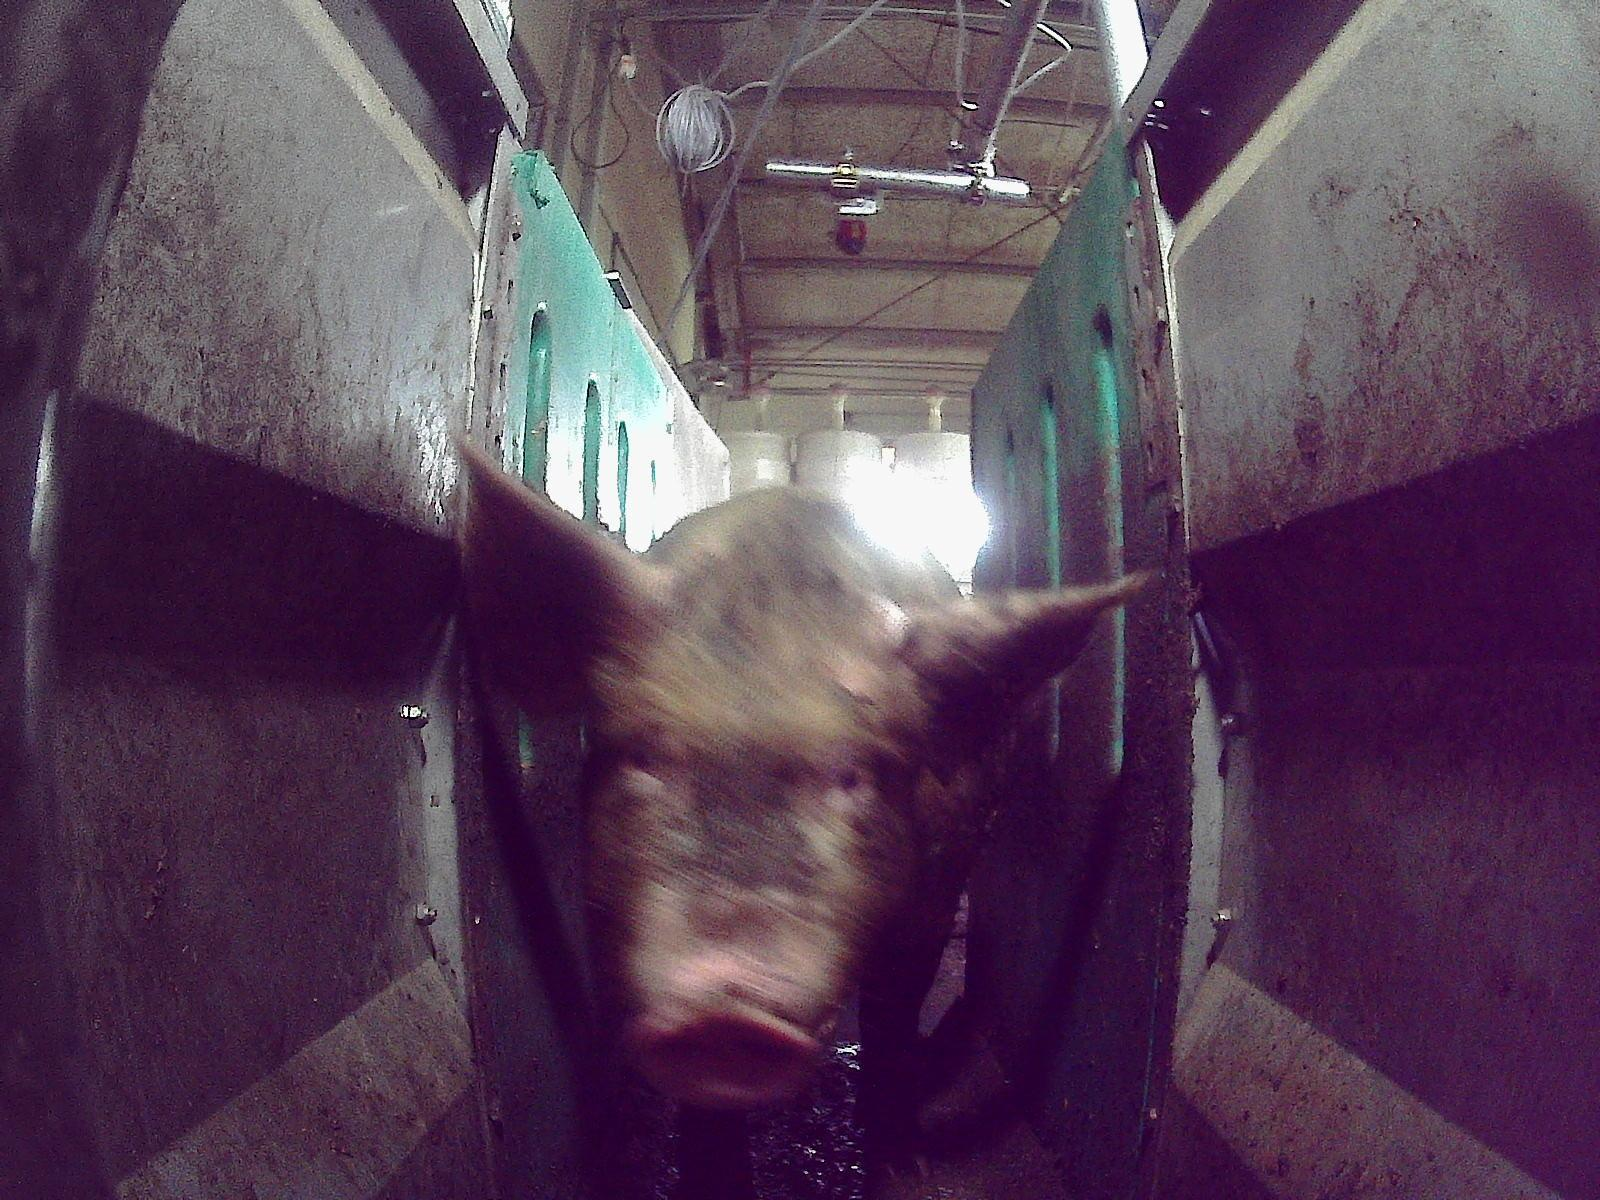Face: (586, 541, 921, 1109)
